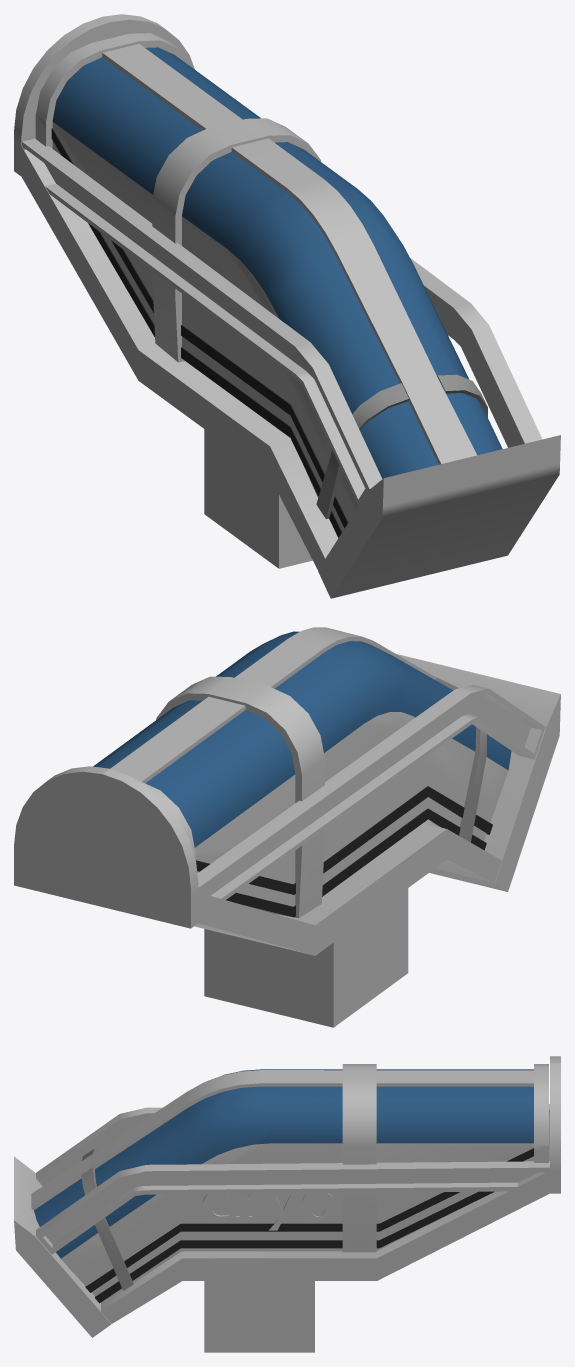
The model's file is Cryo.fbx.
3 renders of one model, top to bottom at view 1: azimuth 30°, elevation 25°; view 2: azimuth 150°, elevation 25°; view 3: azimuth 270°, elevation 25°, orthographic. The views are drawn at different scales.
Visible parts, largest first — view 1: pCube4, pCube1, pCube3, pCube2, pCube5, pasted__pCube5; view 2: pCube4, pCube1, pCube3, pCube2, pCube5, pasted__pCube5; view 3: pCube4, pCube1, pCube3, pCube2, pCube5, pasted__pCube5, typeMesh1.
Part boxes in pixels (box(x1,y1,x2,y2)): pCube4: box(35, 33, 502, 531); pCube1: box(14, 14, 338, 569); pCube3: box(22, 138, 542, 505); pCube2: box(318, 435, 560, 598); pCube5: box(88, 223, 342, 537); pasted__pCube5: box(51, 128, 348, 528); pCube4: box(93, 627, 511, 918); pCube1: box(14, 766, 501, 1027); pCube3: box(197, 684, 545, 899); pCube2: box(396, 654, 560, 891); pCube5: box(226, 808, 486, 917); pasted__pCube5: box(196, 786, 492, 894); pCube4: box(31, 1064, 548, 1302); pCube1: box(101, 1056, 560, 1352); pCube3: box(36, 1104, 549, 1254); pCube2: box(14, 1156, 111, 1337); pCube5: box(95, 1191, 494, 1303); pasted__pCube5: box(85, 1148, 533, 1292); typeMesh1: box(203, 1193, 334, 1230).
Bounding box in the file's own units: 6.17 × 11.97 × 22.31.
